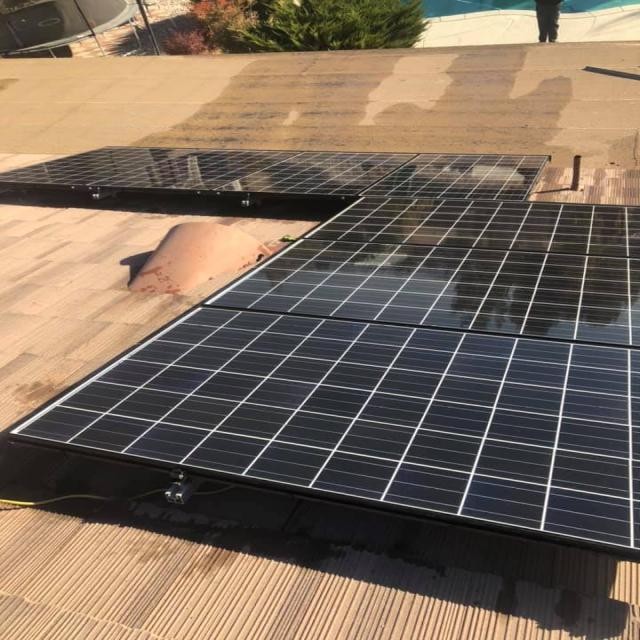clean-solar-panel: (12, 199, 638, 552), (0, 146, 548, 201)
